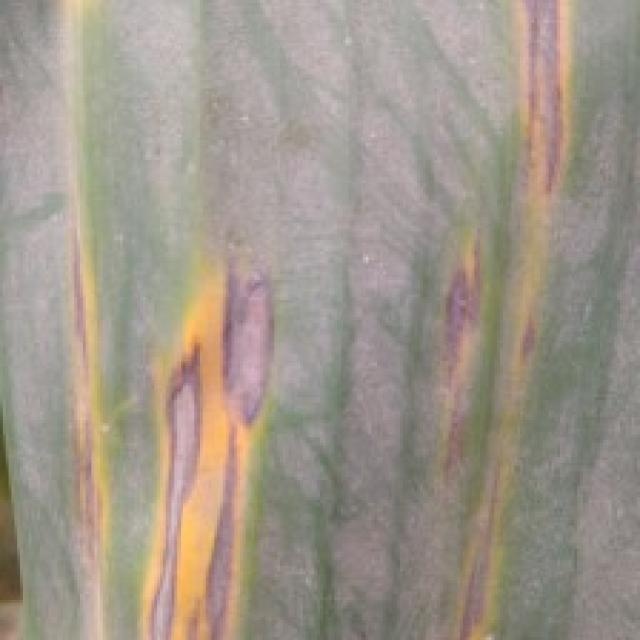Early_leaf_spot: (406, 0, 571, 640), (117, 240, 300, 640), (25, 187, 119, 627)
